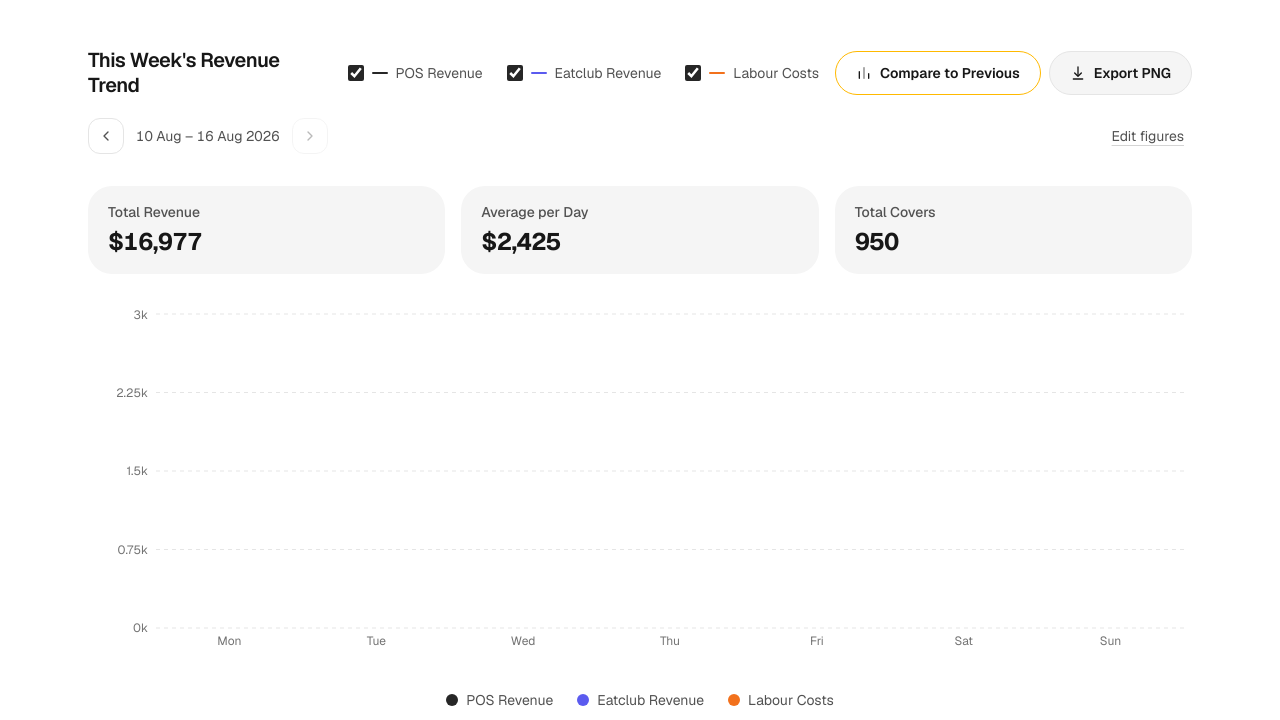
AS-002: turning on comparison reloads against the previous week › renames the view, refetches with comparison, and marks the control active
Expected: the heading "This Week's Revenue Trend" is shown, 88,47 -> 280,98
Click the button "Compare to Previous": (938, 73) 835,51 -> 1041,95
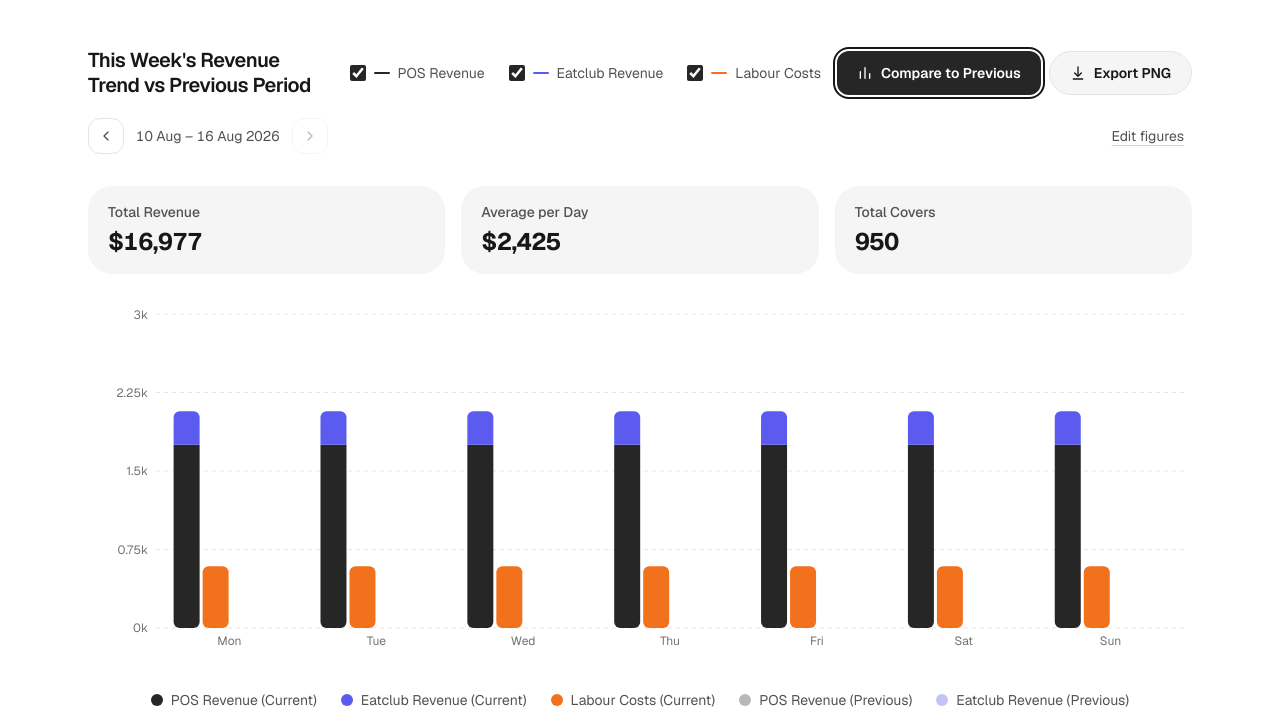
Expected: the heading "This Week's Revenue Trend vs Previous Period" is shown, 88,48 -> 318,98
